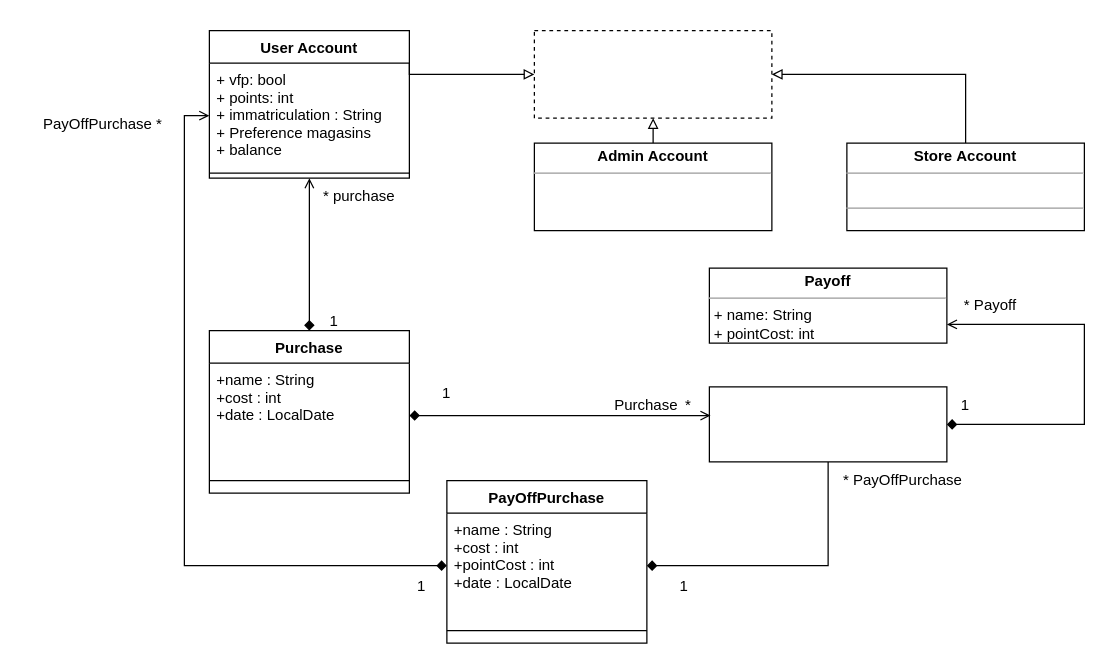
Some shapes in this 1118 by 665 pixel diagram are drawn without their labels. Here are the shapes that lost their labels. From the top down, the centre of each, then its label:
At pixel 652 73: "Account + mail: String + password : String".
At pixel 827 424: "Store + name: String".
